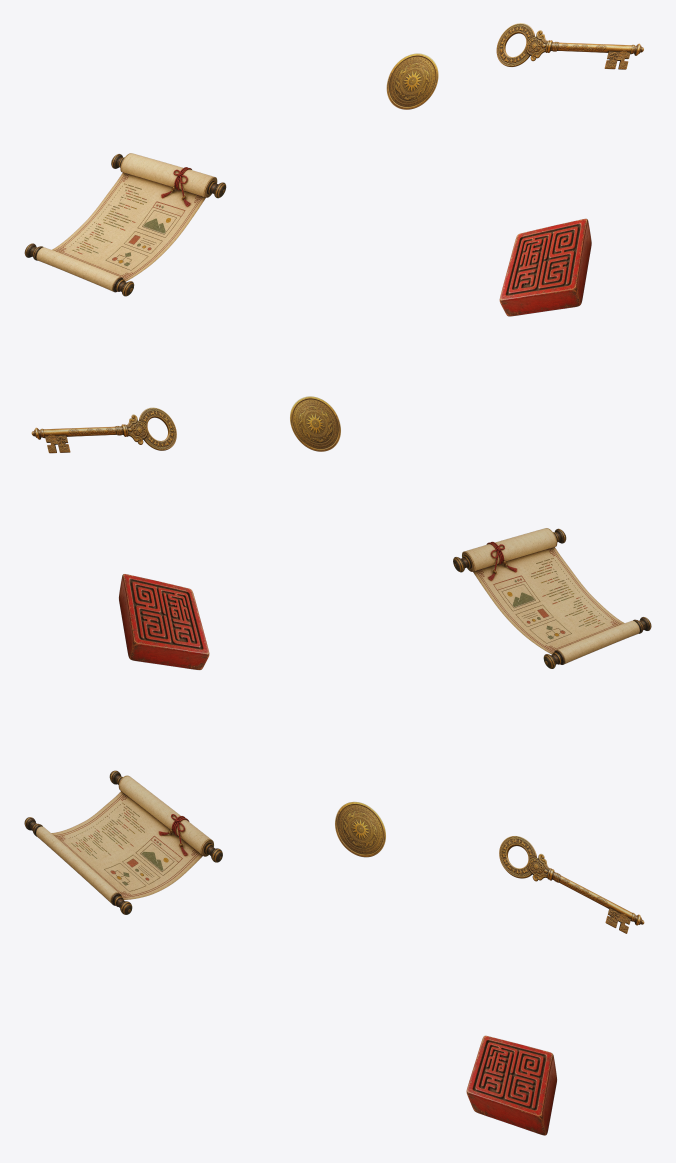
Rendered from Marketing_fg_smaller_251127_compressed-optimized-ad63a8b7fb.glb.
3 views of the same model, one above another, from view 1: azimuth 30°, elevation 25°; view 2: azimuth 150°, elevation 25°; view 3: azimuth 330°, elevation 25° (orthographic).
Visible parts, largest first — view 1: Vietfolk_marketing_scroll, Vietfolk_marketing_stamp, Vietfolk_marketing_key, Vietfolk_marketing_coin; view 2: Vietfolk_marketing_scroll, Vietfolk_marketing_stamp, Vietfolk_marketing_key, Vietfolk_marketing_coin; view 3: Vietfolk_marketing_scroll, Vietfolk_marketing_stamp, Vietfolk_marketing_key, Vietfolk_marketing_coin.
Boxes of the visible parts, <box> form: Vietfolk_marketing_scroll: <box>24,153,226,296</box>; Vietfolk_marketing_stamp: <box>499,218,591,316</box>; Vietfolk_marketing_key: <box>496,23,643,69</box>; Vietfolk_marketing_coin: <box>386,53,438,109</box>; Vietfolk_marketing_scroll: <box>453,528,651,668</box>; Vietfolk_marketing_stamp: <box>119,574,209,669</box>; Vietfolk_marketing_key: <box>31,407,176,453</box>; Vietfolk_marketing_coin: <box>290,396,340,451</box>; Vietfolk_marketing_scroll: <box>24,770,222,914</box>; Vietfolk_marketing_stamp: <box>466,1035,556,1135</box>; Vietfolk_marketing_key: <box>499,836,644,933</box>; Vietfolk_marketing_coin: <box>335,802,385,857</box>.
Bounding box in the file's own units: 2.92 × 1.45 × 0.22.
4 materials, 4 textured.
